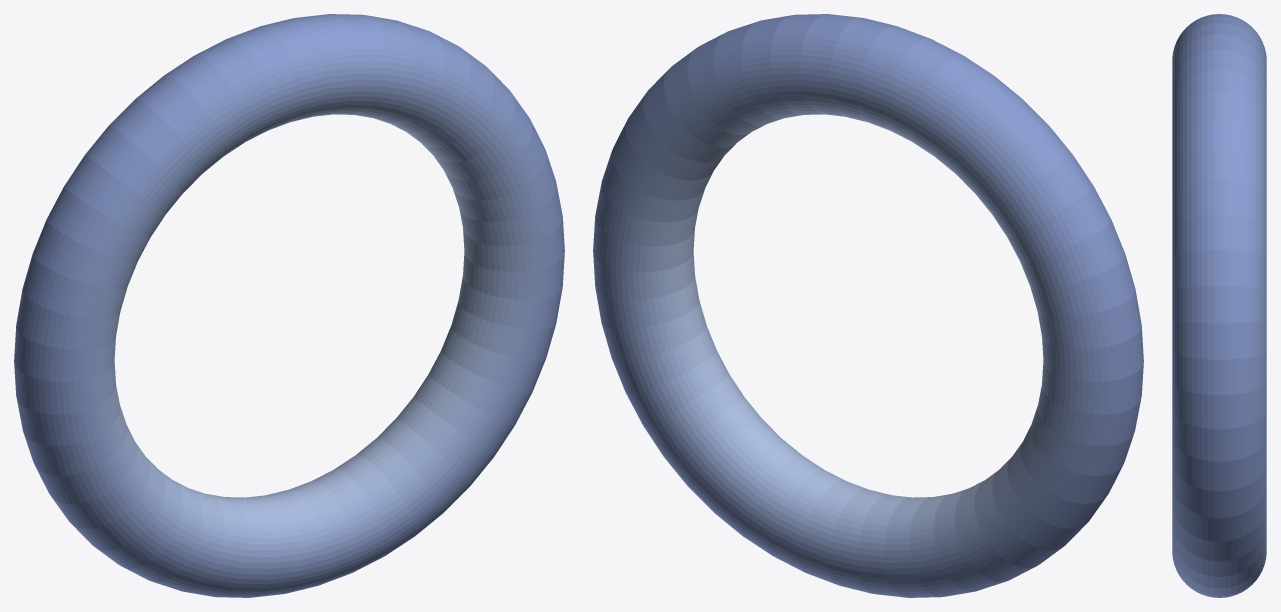
3 renders of one model, left to right at view 1: azimuth 30°, elevation 25°; view 2: azimuth 150°, elevation 25°; view 3: azimuth 270°, elevation 25°, orthographic. The views are drawn at different scales.
Visible parts, largest first — view 1: world; view 2: world; view 3: world.
Boxes of the visible parts, box(x1,y1,x2,y2) form: world: box(14, 14, 564, 597); world: box(593, 14, 1143, 597); world: box(1172, 14, 1266, 597).
Size of the model in its own units: 23.87 by 23.82 by 3.86.
